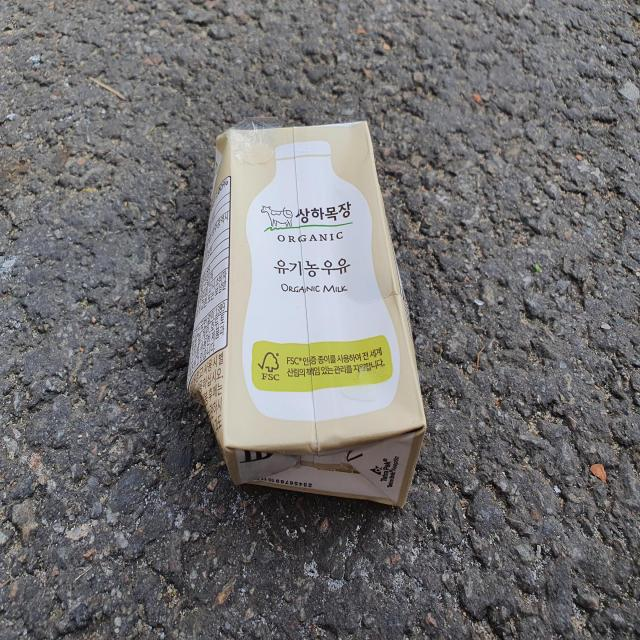paperpack: (187, 120, 426, 507)
